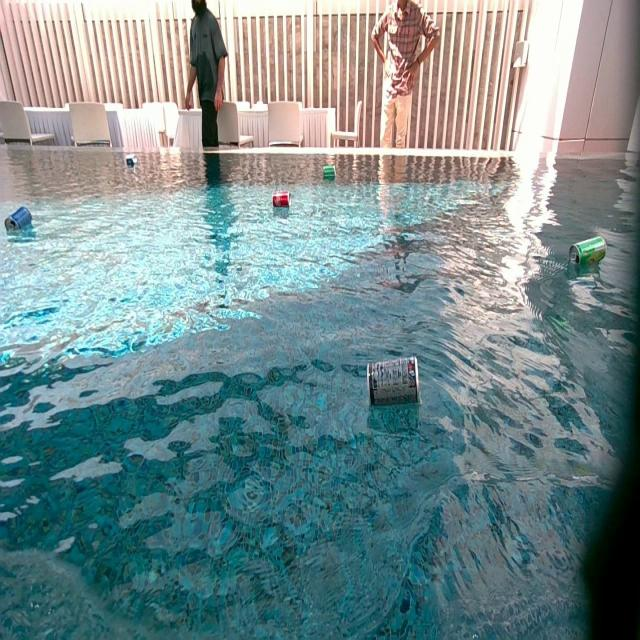Cans: (368, 356, 418, 410), (571, 234, 608, 267), (6, 206, 34, 231), (272, 194, 290, 210), (322, 166, 335, 179), (126, 156, 137, 167)
